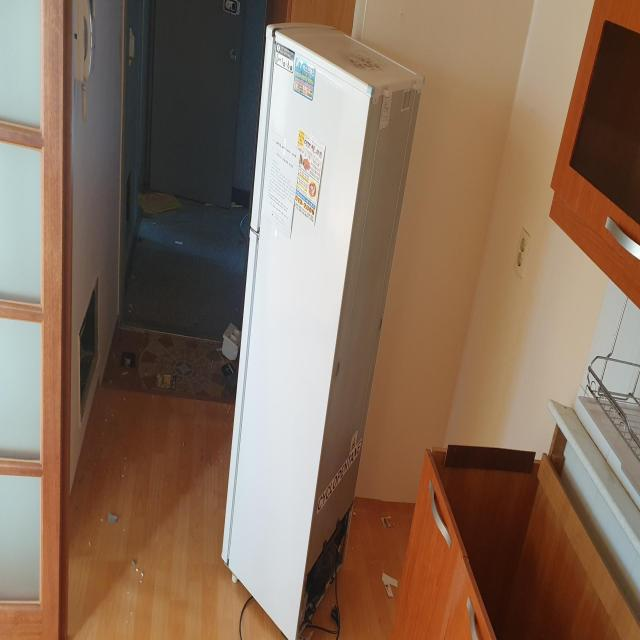refrigerator: (222, 15, 426, 640)
